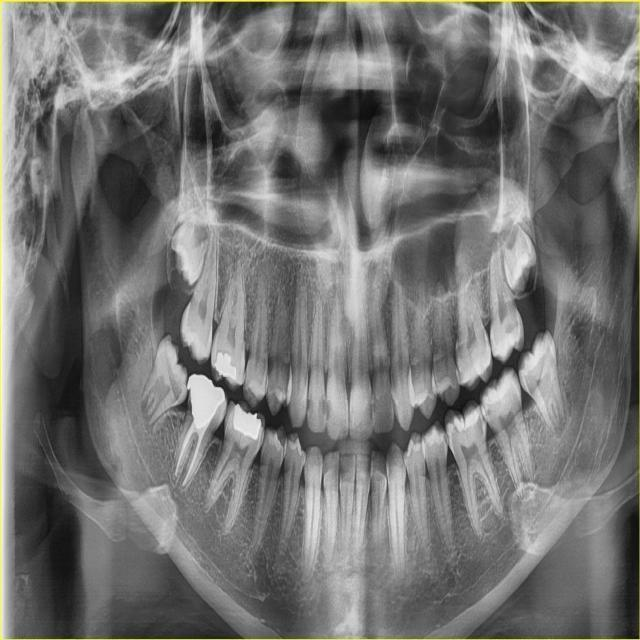Caries: (365, 396, 374, 426), (505, 318, 519, 334), (319, 395, 327, 422), (476, 411, 485, 434), (327, 397, 334, 426), (307, 392, 313, 415), (442, 432, 447, 448), (485, 408, 491, 421)
Filling: (188, 373, 225, 430), (233, 403, 261, 442), (214, 352, 236, 381)
Root Canal Treatment: (184, 434, 204, 493), (175, 425, 194, 479)
impacted tooth: (518, 337, 561, 433), (171, 206, 213, 288), (498, 222, 542, 292)
